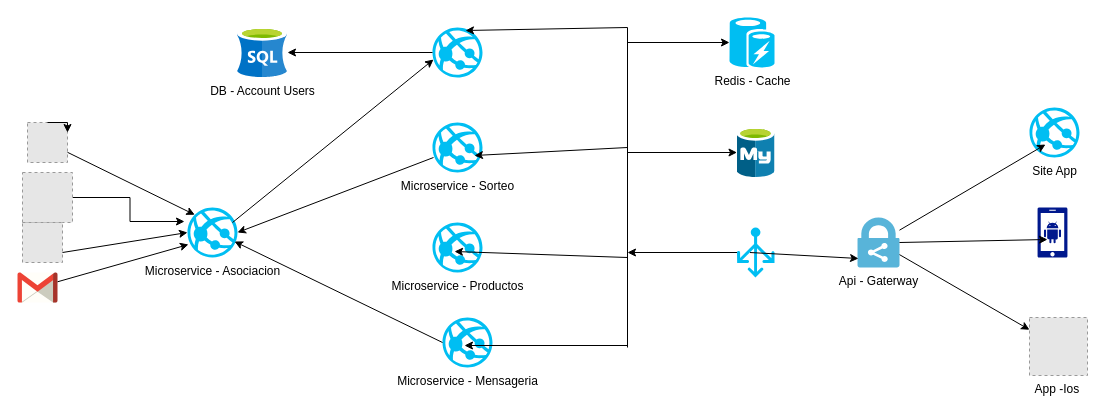
Some shapes in this 1106 by 413 pixel diagram are drawn without their labels. Grey dashed boxes stand in for pictures. The shapes that lost their labels are listed below. From the top down, each one's box as (x1, y1, x2, y2) in pixels, then its label:
(432, 27, 482, 77): Microservice - Account-Users
(736, 127, 774, 177): Producto - Actividades
(736, 227, 774, 277): Balanceador de carga
(1037, 207, 1067, 257): App - Android
